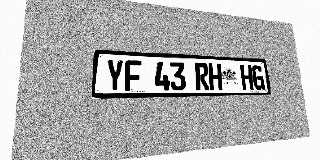3: (170, 62, 186, 91)
4: (154, 61, 170, 91)
F: (124, 60, 142, 91)
G: (251, 65, 265, 90)
H: (208, 63, 223, 90), (240, 65, 254, 90)
R: (194, 63, 209, 90)
Y: (105, 59, 124, 91)
